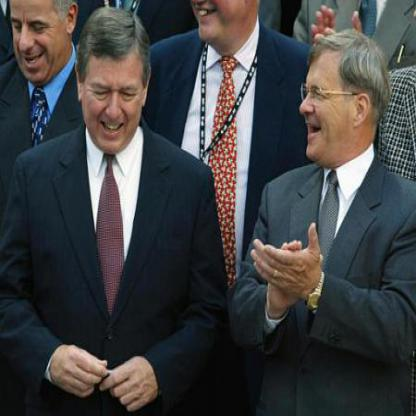face: (295, 39, 363, 167), (83, 21, 146, 153), (9, 1, 66, 84)
